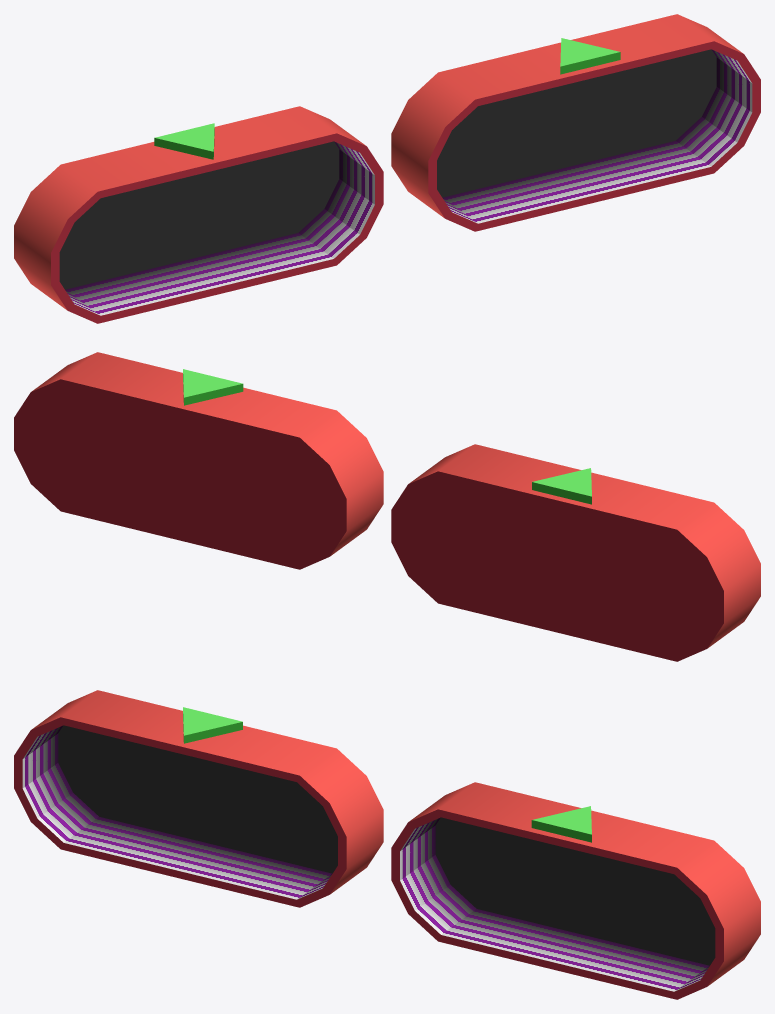
File: role_gateway_01.FBX
3 renders of one model, top to bottom at view 1: azimuth 30°, elevation 25°; view 2: azimuth 150°, elevation 25°; view 3: azimuth 330°, elevation 25°, orthographic.
Parts seen in each view (by area): view 1: role_gateway_01_out, role_gateway_01_in; view 2: role_gateway_01_in, role_gateway_01_out; view 3: role_gateway_01_out, role_gateway_01_in.
Part boxes in pixels (x1,y1,x2,y2): role_gateway_01_out: (14, 106, 383, 323); role_gateway_01_in: (391, 14, 760, 231); role_gateway_01_in: (14, 352, 383, 569); role_gateway_01_out: (391, 444, 760, 661); role_gateway_01_out: (14, 690, 383, 907); role_gateway_01_in: (391, 782, 760, 999).
Size of the model in its own units: 55.92 by 10.56 by 5.06.
1 material, 1 textured.
